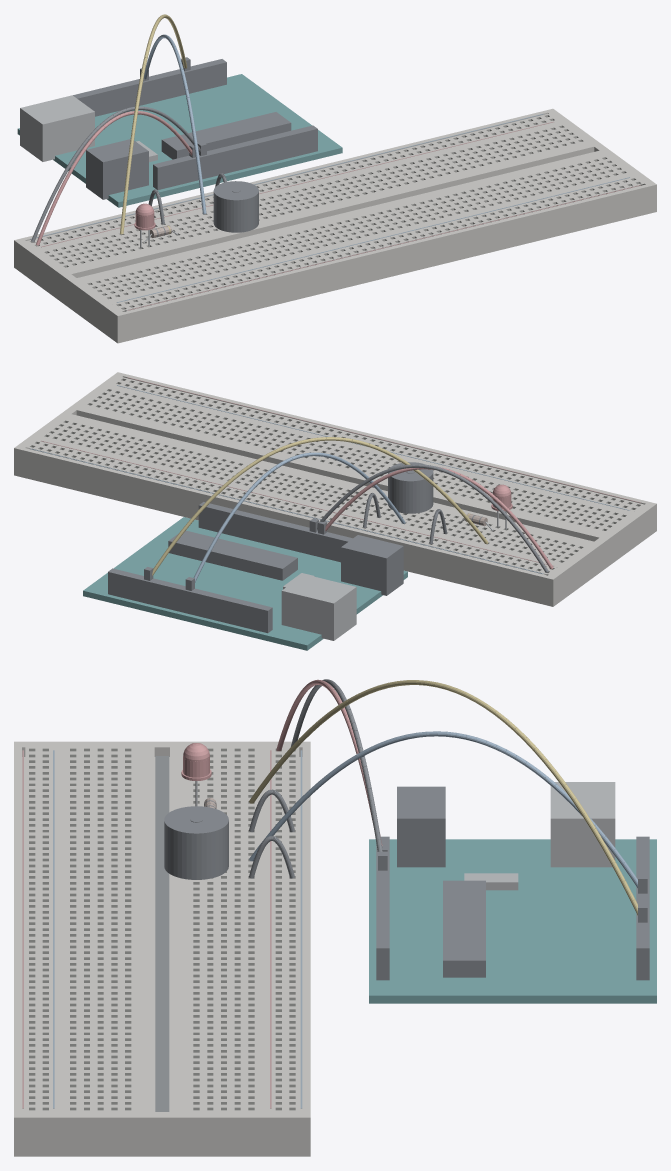
Rendered from step-9.glb.
3 views of the same model, one above another, from view 1: azimuth 30°, elevation 25°; view 2: azimuth 150°, elevation 25°; view 3: azimuth 270°, elevation 25° (orthographic). The views are drawn at different scales.
Parts seen in each view (by area): view 1: breadboard_1__mesh, arduino_uno__mesh, buzzer_1__mesh, wire_led_sig__mesh, wire_main_gnd__mesh, wire_main_5v__mesh, wire_buzzer_sig__mesh, led_red__mesh; view 2: breadboard_1__mesh, arduino_uno__mesh, wire_led_sig__mesh, buzzer_1__mesh, wire_buzzer_sig__mesh, wire_main_gnd__mesh, wire_main_5v__mesh, led_red__mesh; view 3: breadboard_1__mesh, arduino_uno__mesh, buzzer_1__mesh, wire_led_sig__mesh, wire_buzzer_sig__mesh, wire_main_gnd__mesh, led_red__mesh, wire_main_5v__mesh.
Part boxes in pixels (x1,y1,x2,y2): breadboard_1__mesh: [14, 108, 656, 343]; arduino_uno__mesh: [17, 59, 342, 207]; buzzer_1__mesh: [213, 181, 258, 232]; wire_led_sig__mesh: [120, 14, 190, 234]; wire_main_gnd__mesh: [31, 106, 206, 242]; wire_main_5v__mesh: [36, 111, 198, 245]; wire_buzzer_sig__mesh: [140, 34, 206, 214]; led_red__mesh: [134, 203, 155, 248]; breadboard_1__mesh: [14, 372, 656, 606]; arduino_uno__mesh: [83, 502, 407, 650]; wire_led_sig__mesh: [144, 437, 488, 580]; buzzer_1__mesh: [388, 462, 433, 513]; wire_buzzer_sig__mesh: [185, 452, 405, 590]; wire_main_gnd__mesh: [309, 464, 548, 572]; wire_main_5v__mesh: [318, 466, 553, 569]; led_red__mesh: [491, 484, 512, 529]; breadboard_1__mesh: [14, 741, 310, 1156]; arduino_uno__mesh: [369, 782, 656, 1003]; buzzer_1__mesh: [164, 806, 228, 879]; wire_led_sig__mesh: [249, 680, 647, 922]; wire_buzzer_sig__mesh: [249, 731, 647, 893]; wire_main_gnd__mesh: [291, 679, 387, 870]; led_red__mesh: [181, 743, 211, 806]; wire_main_5v__mesh: [276, 679, 387, 851].
Size of the model in its own units: 0.165 by 0.0463 by 0.1192.
